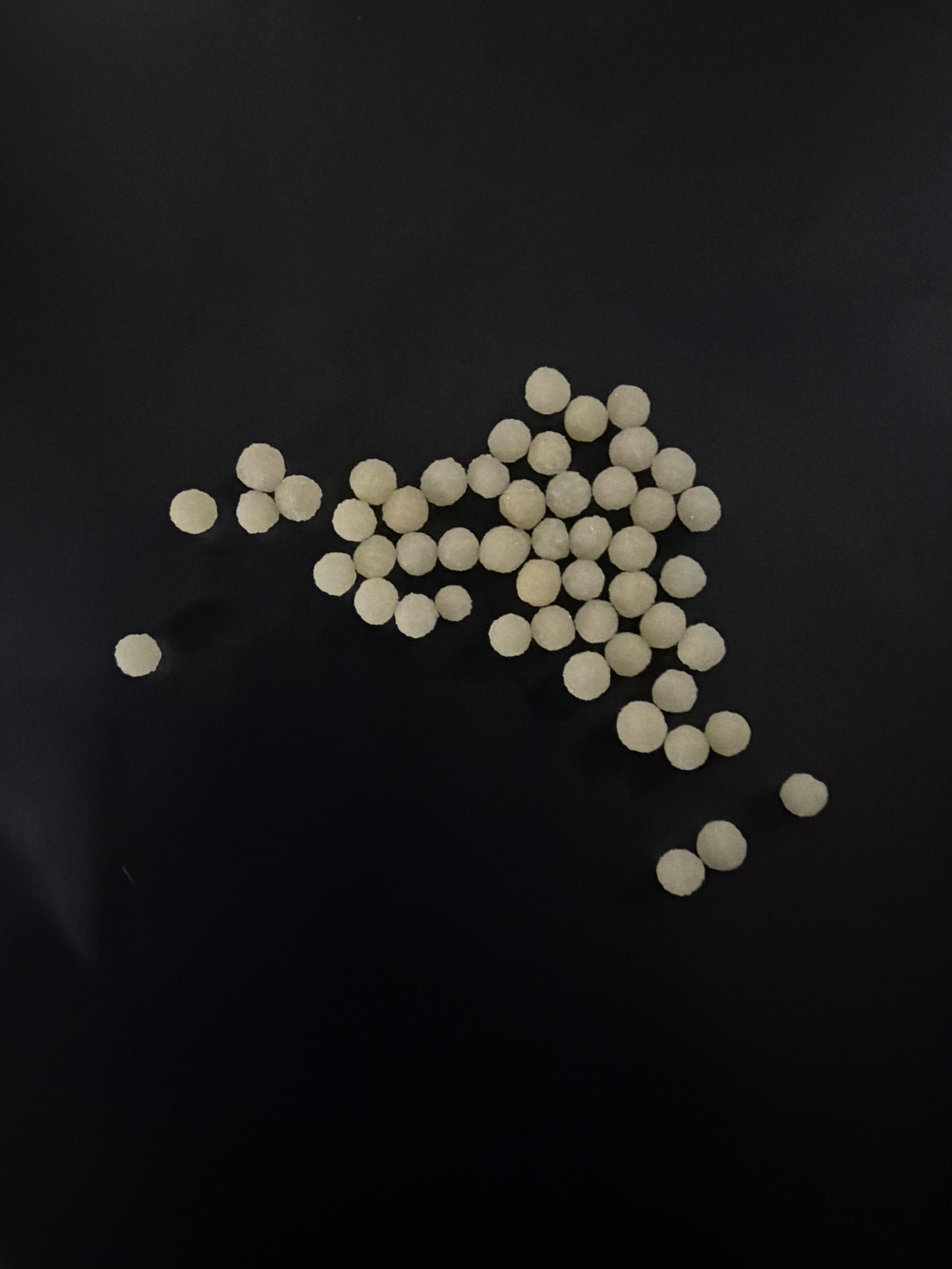pill: (616, 701, 667, 753), (696, 821, 747, 871), (236, 443, 285, 493), (479, 525, 530, 573), (499, 479, 546, 529), (656, 848, 704, 896), (677, 623, 725, 671), (563, 651, 610, 700), (420, 458, 467, 506), (274, 475, 322, 522), (608, 525, 657, 571), (609, 571, 656, 618), (524, 367, 570, 415), (349, 459, 397, 505), (516, 559, 561, 608), (639, 601, 685, 648), (546, 471, 592, 518), (382, 486, 428, 533), (604, 632, 652, 677), (169, 489, 217, 534), (609, 428, 658, 472), (704, 711, 751, 756), (651, 447, 696, 494), (780, 773, 828, 817), (664, 724, 709, 770), (530, 605, 575, 651), (354, 578, 398, 625), (660, 555, 706, 599), (677, 486, 721, 532), (631, 487, 675, 533), (592, 466, 638, 510), (564, 396, 608, 442), (652, 669, 697, 713), (394, 593, 438, 638), (527, 431, 571, 476), (115, 634, 161, 677), (487, 419, 531, 463), (575, 599, 618, 644), (467, 454, 510, 499), (332, 499, 377, 542), (313, 552, 356, 596), (236, 489, 279, 533), (353, 535, 396, 578), (570, 516, 612, 560), (437, 527, 479, 571), (607, 385, 649, 429), (489, 614, 531, 657), (396, 532, 437, 576), (562, 560, 604, 601), (531, 518, 569, 560), (434, 585, 472, 622)
